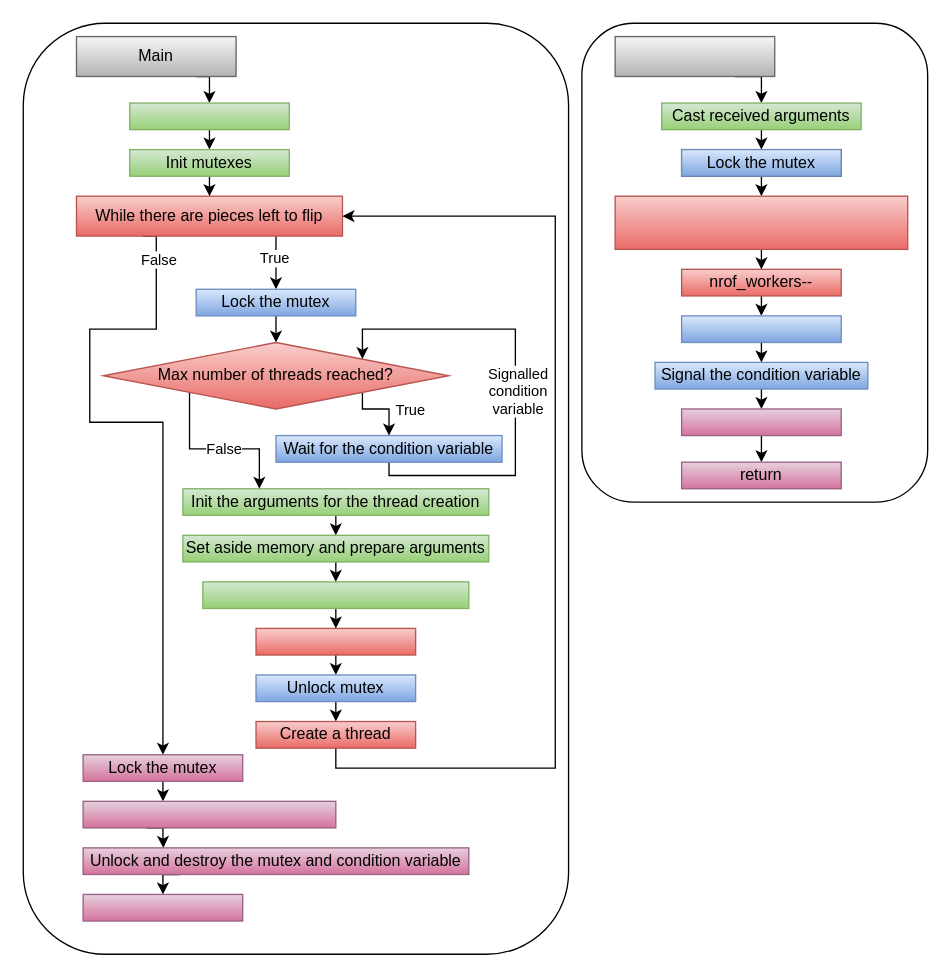
The diagram is 951 pixels wide and 978 high, and some of its shapes have lost their labels. The box of each missing label's shape, as (x1, y1, x2, y2) in pixels:
Display the results: (82, 893, 243, 921)
For every multiple of the received number, flip the bit in the buffer: (614, 195, 908, 249)
Free the memory: (680, 408, 841, 436)
nrof_workers++: (255, 627, 416, 655)
Reset buffer: (128, 102, 289, 130)
Set thread settings: detached mode: (201, 581, 469, 608)
Thread: (614, 35, 775, 76)
Unlock the mutex: (680, 315, 841, 342)
Wait for every thread to terminate: (82, 800, 336, 828)
